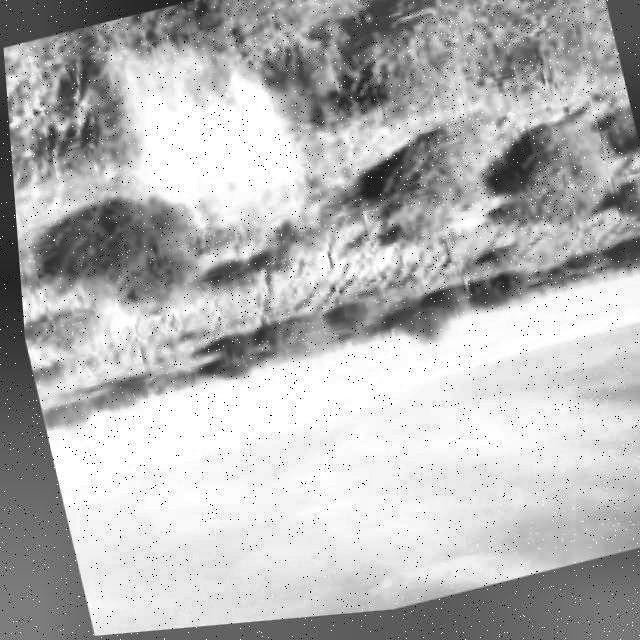Smoke: (75, 0, 341, 290)
